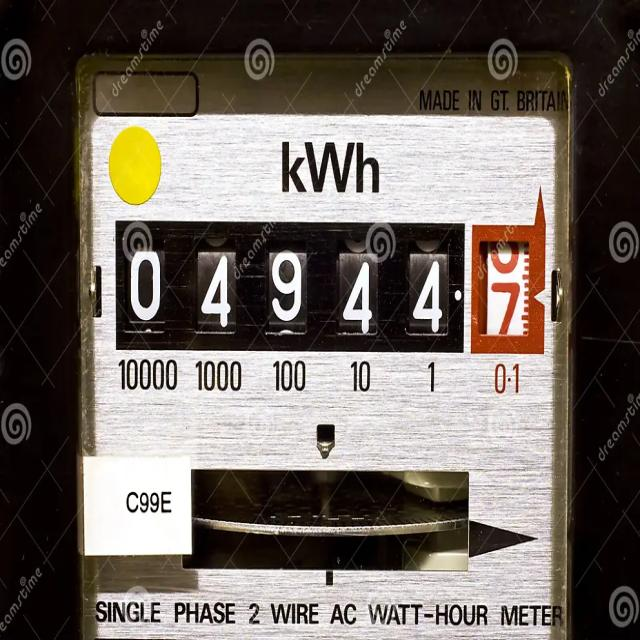Meter: (78, 49, 571, 640)
